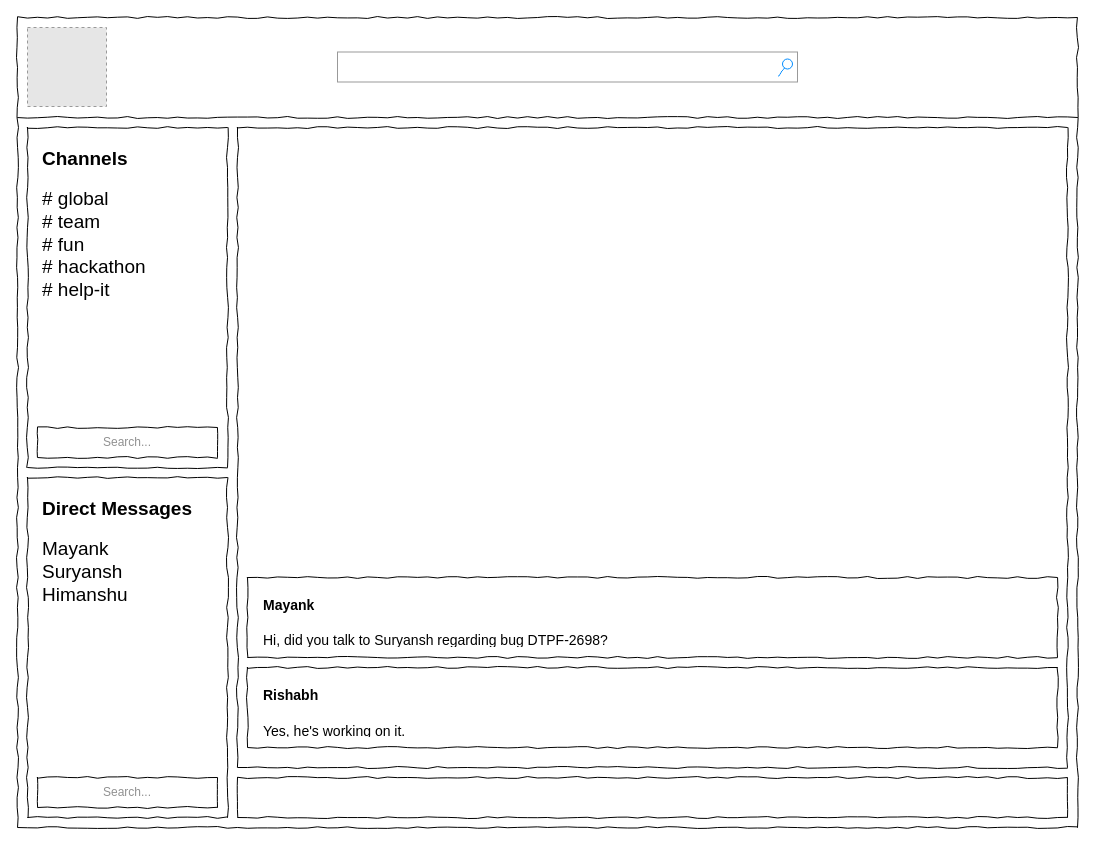
The diagram is 1095 pixels wide and 845 high, and some of its shapes have lost their labels. Grey dashed boxes stand in for pictures. The centre of each missing label's shape, as x and y in pixels:
Search: (567,66)
Type your message here...: (652,797)
